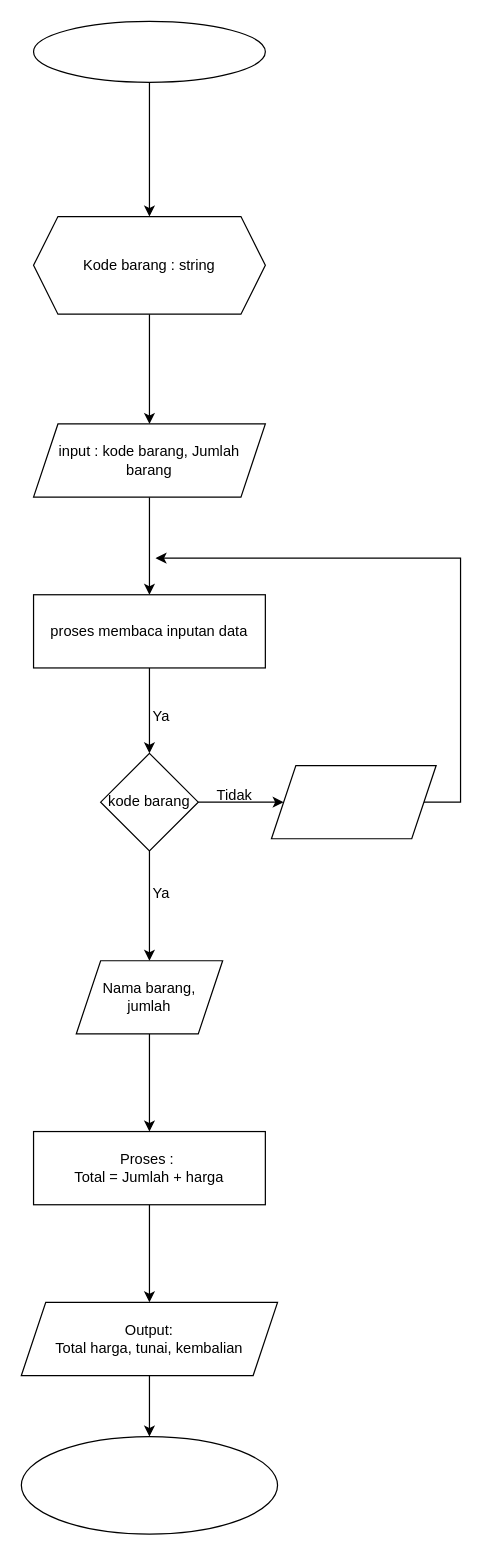
The diagram is 492 pixels wide and 1556 high, and some of its shapes have lost their labels. The shapes that lost their labels are listed below. From the top down, each one's centre as x and y in pixels, then its label:
At (148,51): "Start".
At (353,801): "Kode barang yang dimasukan salah".
At (149,1484): "End".
